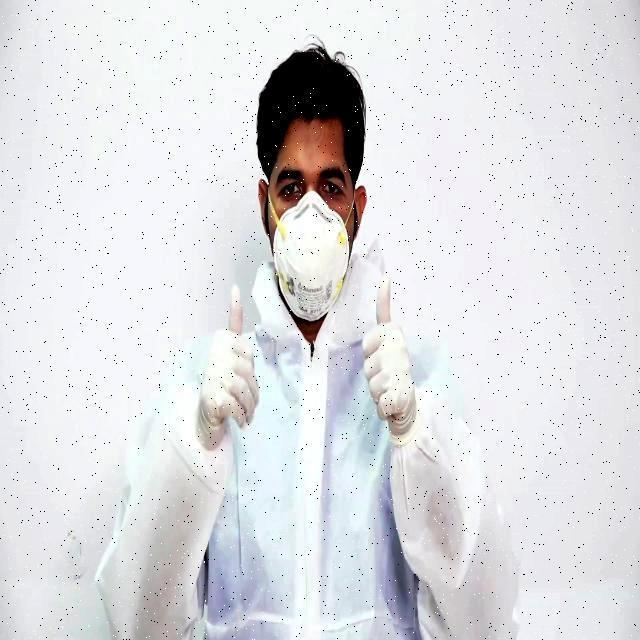apron: (363, 269, 428, 430), (209, 267, 267, 444)
mask: (278, 205, 342, 322)
no_gloves: (256, 38, 381, 130)
